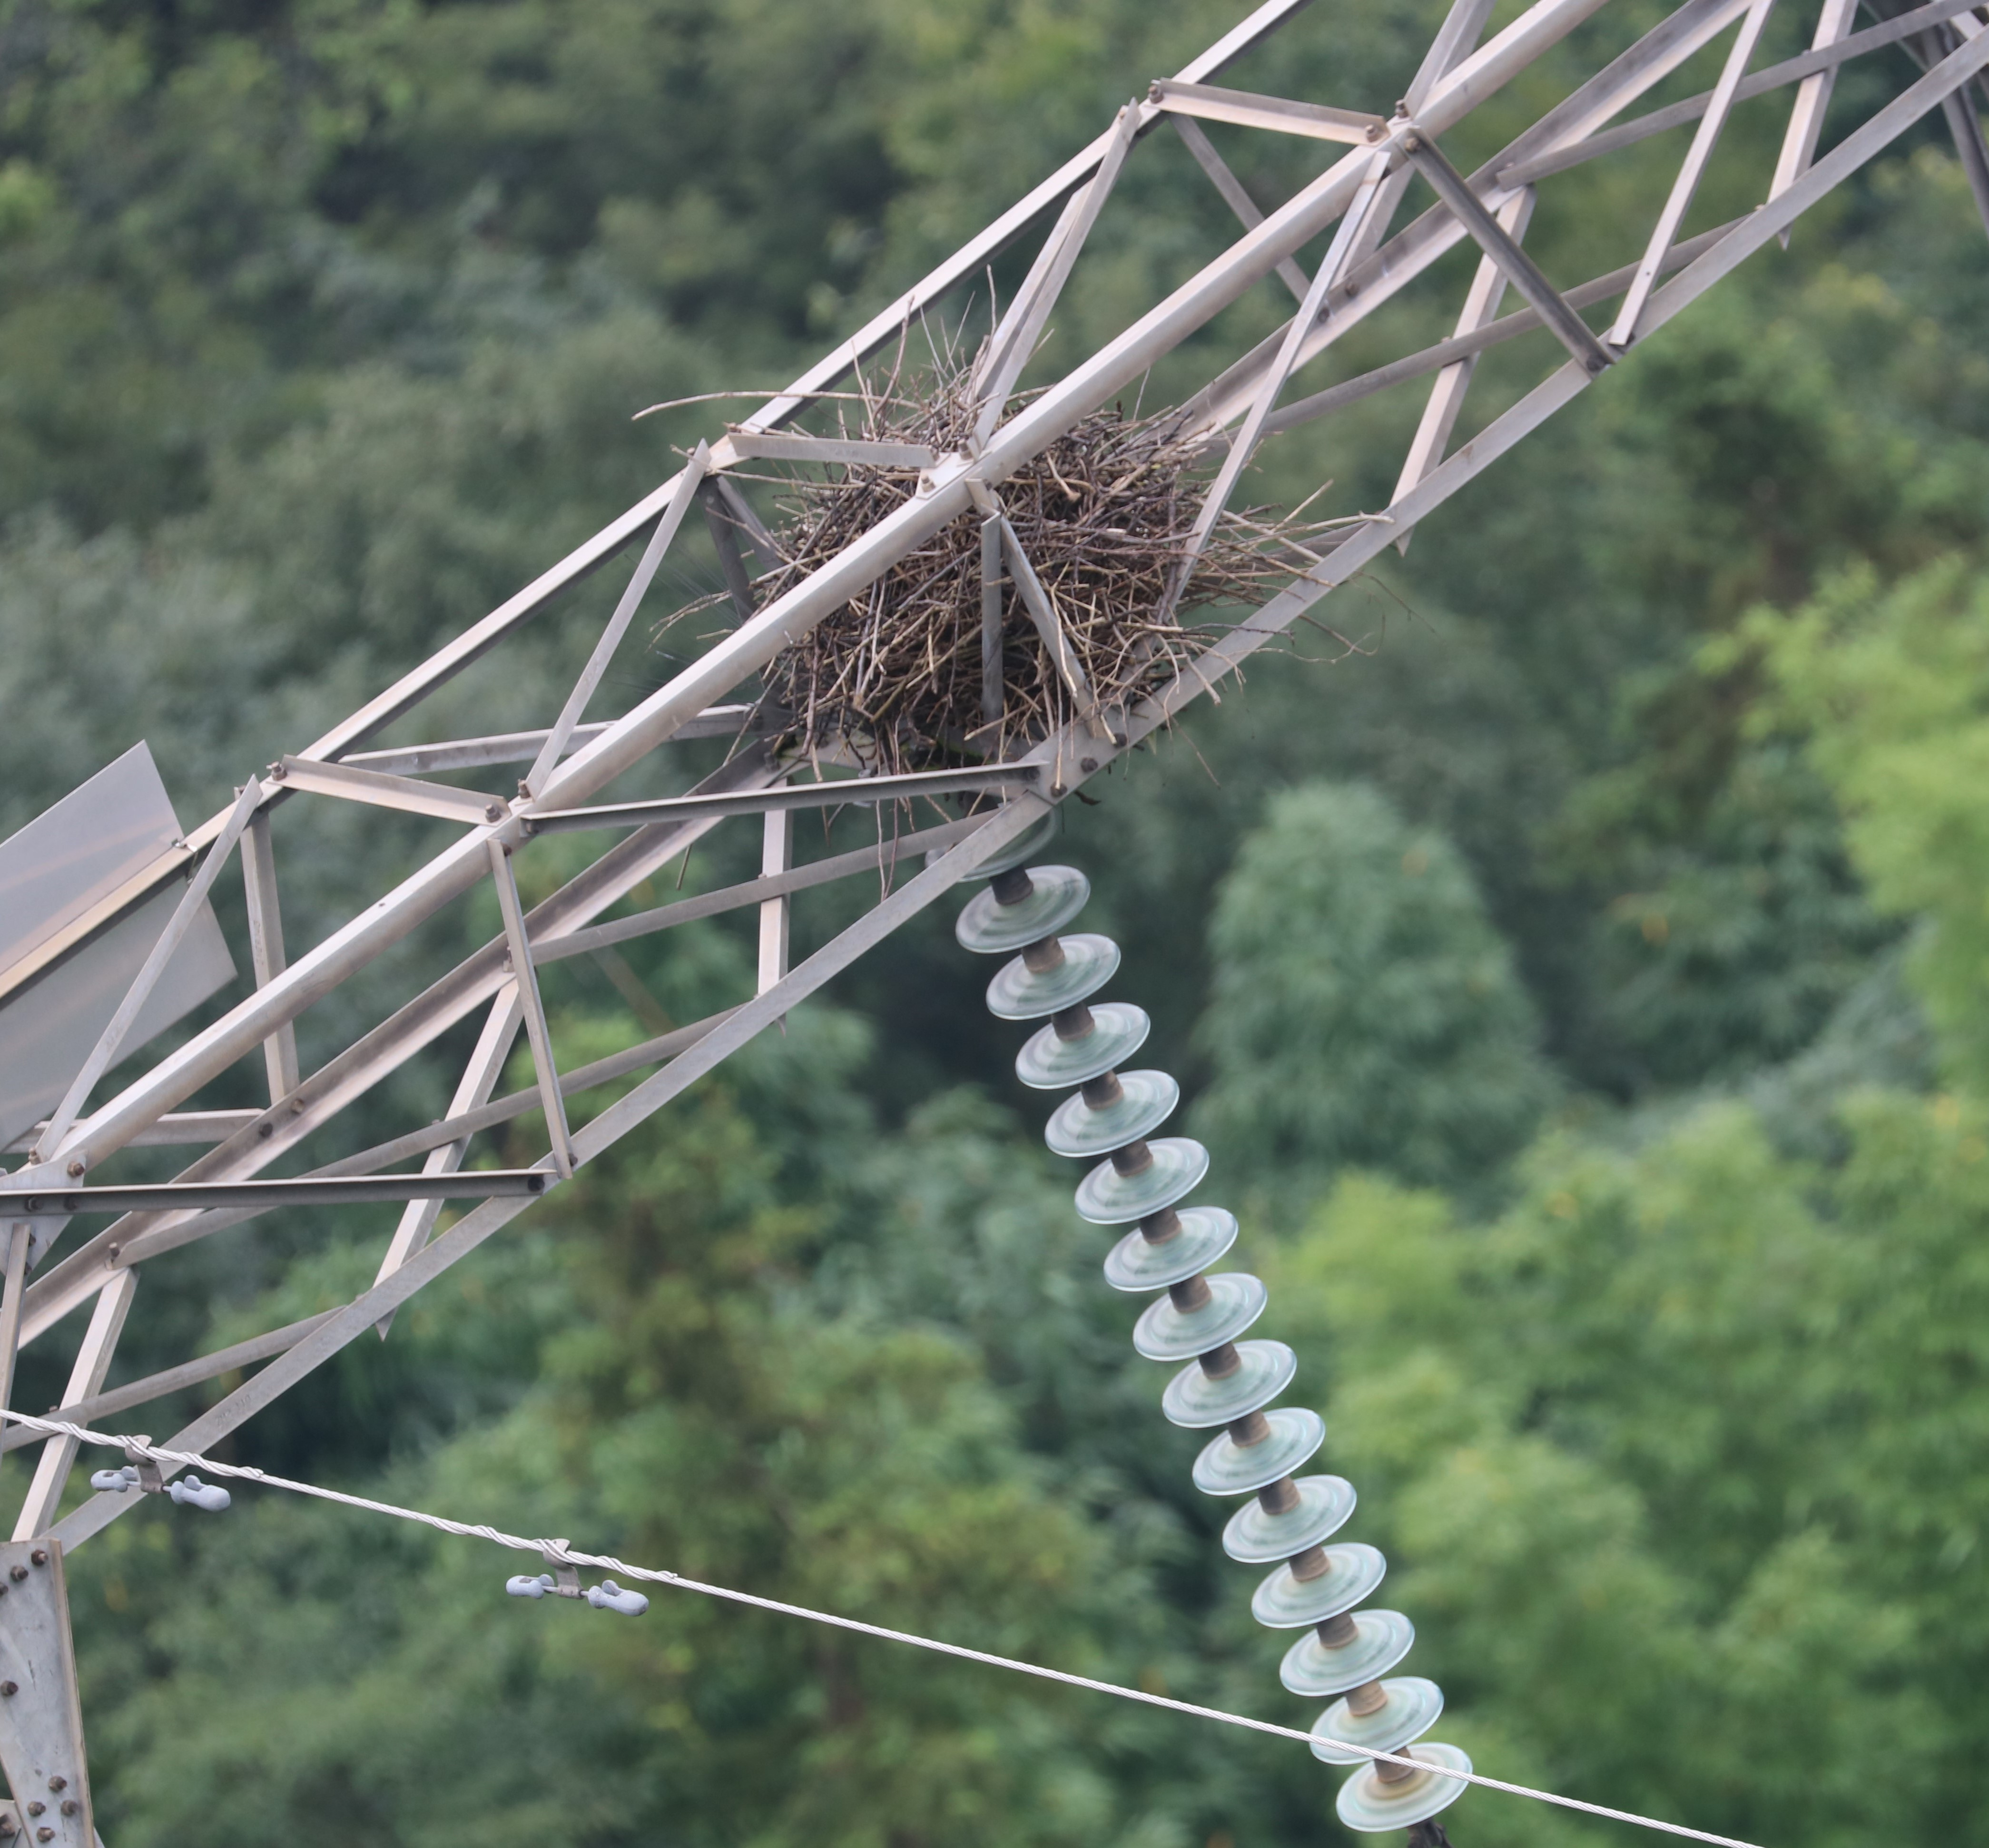niaowo: (717, 351, 1280, 790)
